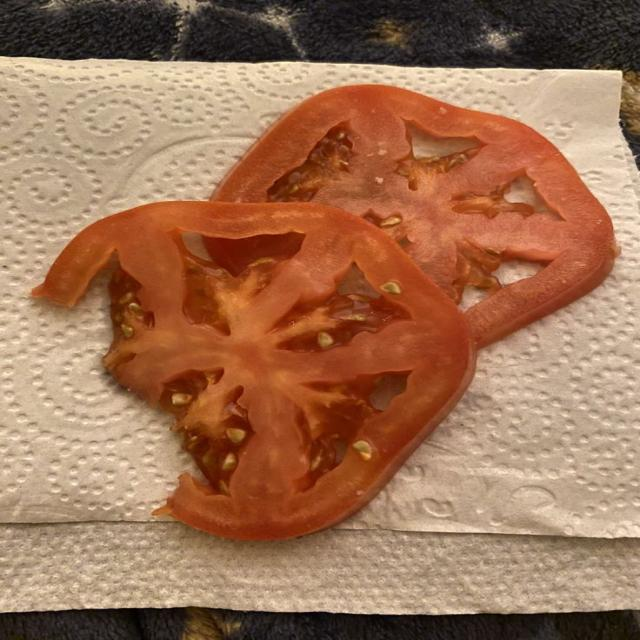sliced_tomato: (34, 202, 473, 539), (212, 86, 616, 345)
